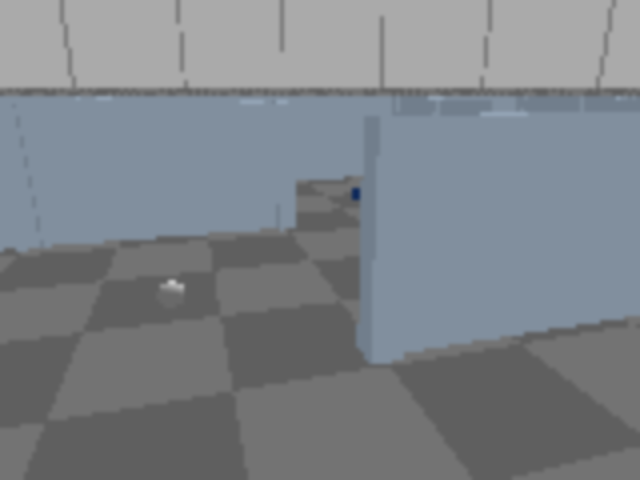puck: (150, 276, 191, 314)
